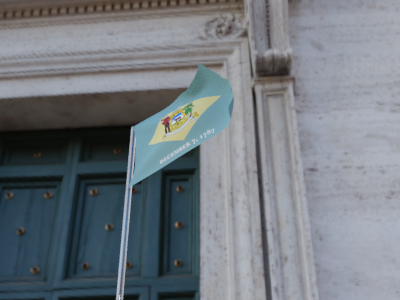Delaware flag: (130, 63, 236, 187)
